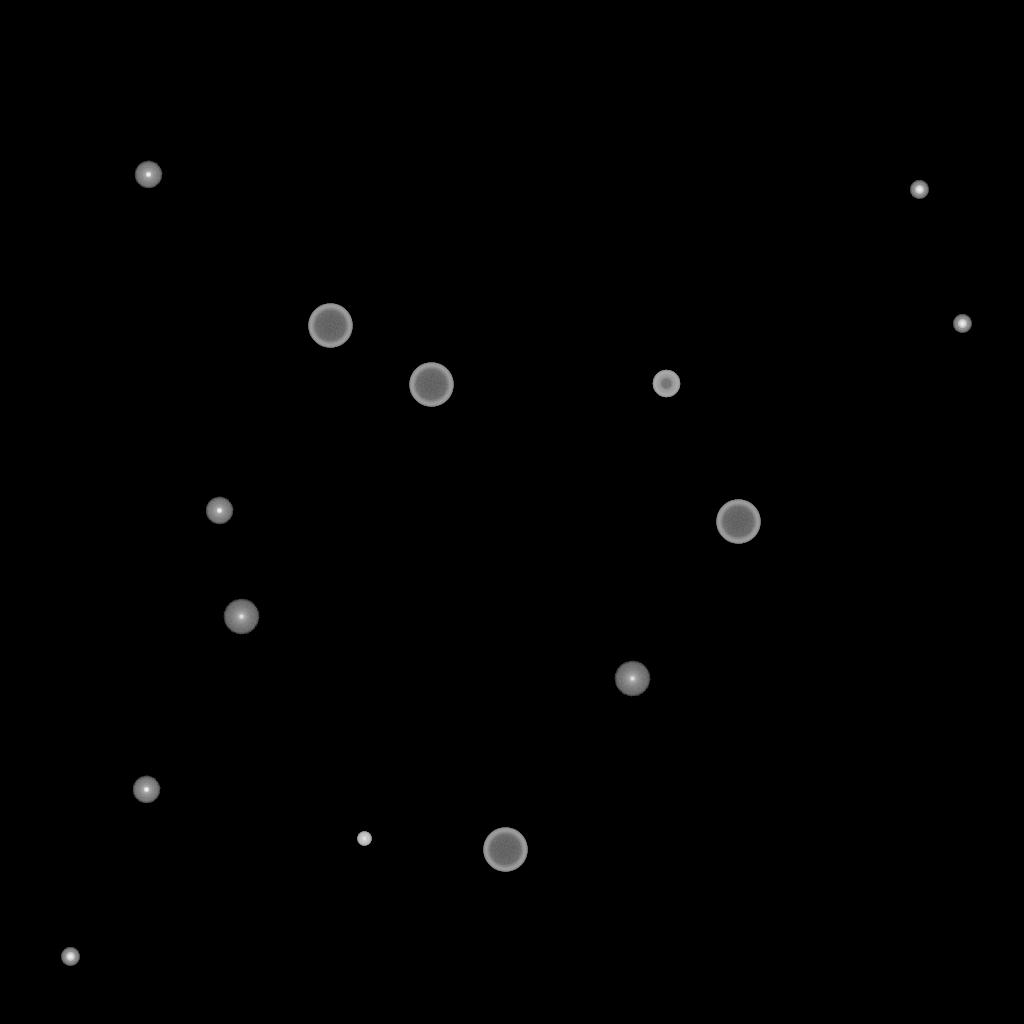depth:-10: (132, 776, 160, 804), (205, 497, 233, 525), (134, 161, 162, 189)
depth:-20: (61, 948, 79, 966), (910, 181, 928, 199), (953, 315, 971, 333)
depth:-30: (357, 832, 371, 846)
depth:-50: (652, 370, 680, 398)
depth:-70: (308, 304, 352, 348), (716, 500, 760, 544), (483, 828, 527, 872), (409, 363, 453, 407)
depth:0: (614, 661, 650, 697), (223, 599, 259, 635)
